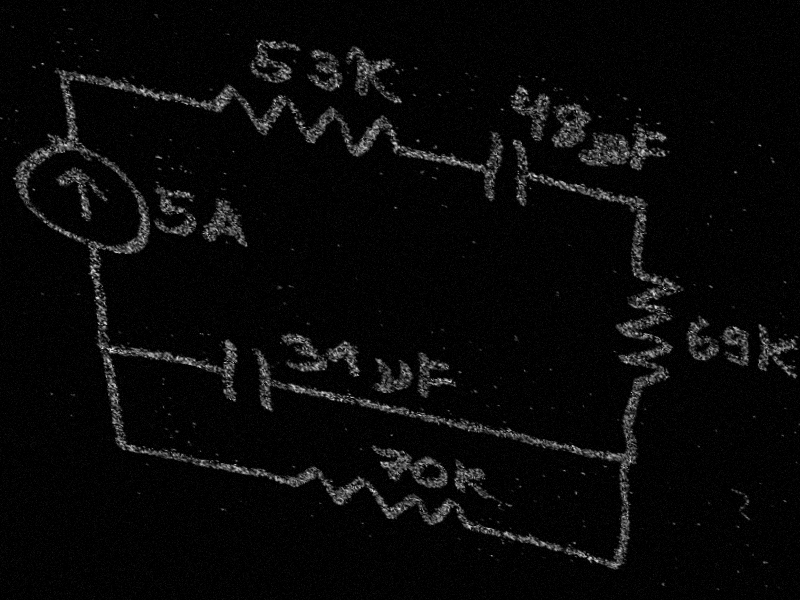0: (408, 453, 452, 492)
1: (321, 333, 367, 382)
3: (273, 328, 332, 379), (302, 45, 347, 96)
4: (504, 79, 555, 145)
5: (243, 33, 309, 90), (146, 180, 204, 242)
6: (680, 312, 725, 368)
7: (366, 441, 418, 488)
8: (547, 100, 595, 154)
9: (717, 322, 756, 371)
A: (195, 194, 251, 251)
F: (412, 350, 461, 407), (629, 122, 672, 179)
k: (341, 40, 407, 109), (750, 319, 800, 384), (450, 456, 494, 502)
u: (367, 352, 418, 399), (589, 130, 632, 173)
